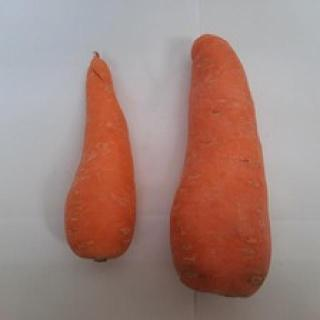carrot: (168, 37, 270, 297), (63, 53, 139, 259)
